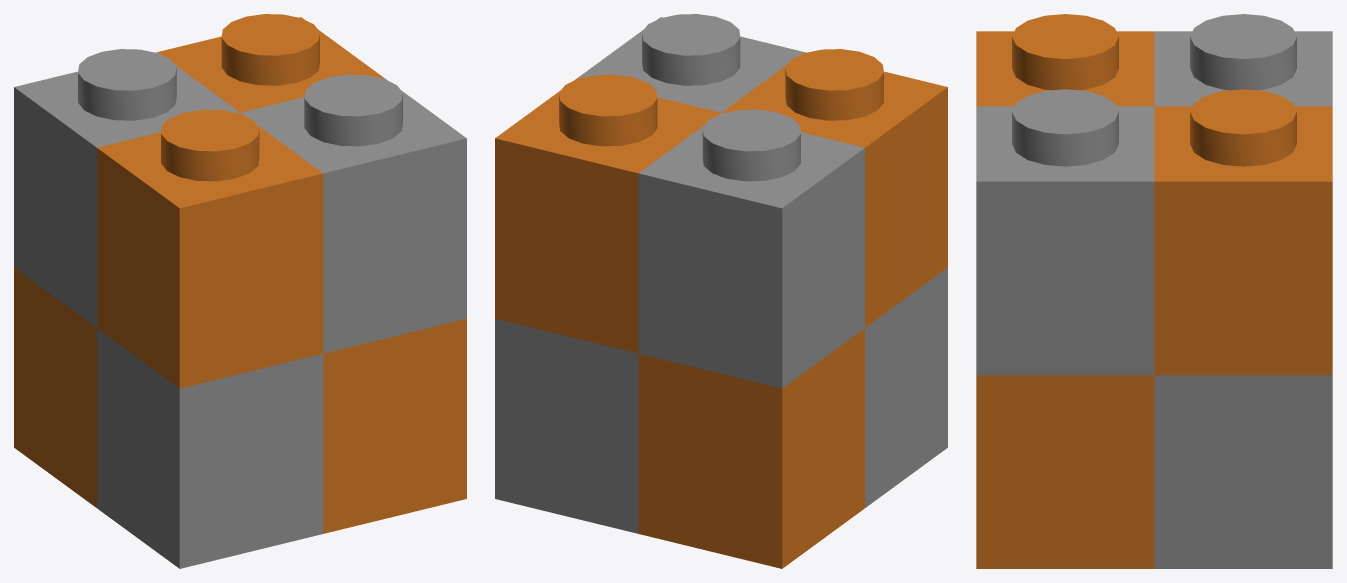
The model's file is work-in-progress-gerwalk.dae.
3 renders of one model, left to right at view 1: azimuth 30°, elevation 25°; view 2: azimuth 150°, elevation 25°; view 3: azimuth 270°, elevation 25°, orthographic. The views are drawn at different scales.
Bounding box in the file's own units: 40 × 40 × 52.
